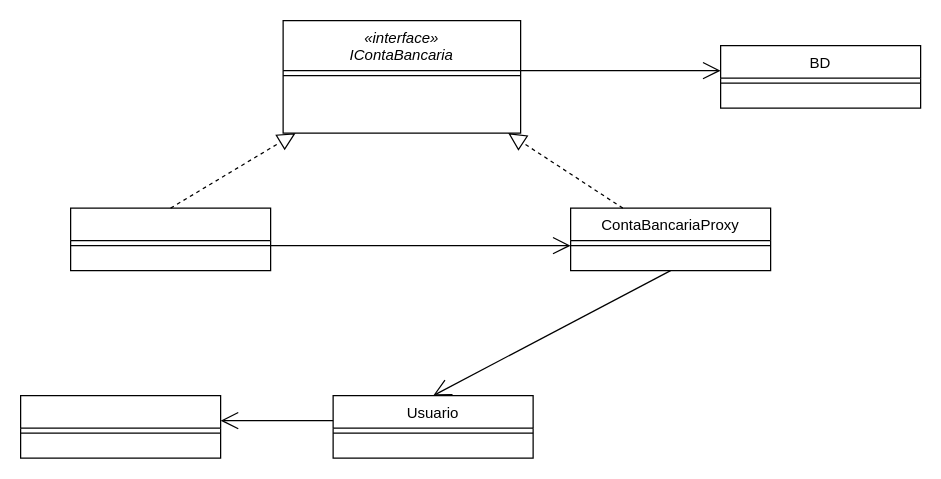
Image size: 941x479. Some labels were removed from this diagram. Here are the shapes that lost their labels. From the top down, the centre of each, then its label:
pixel 170 239: ContaBancaria
pixel 120 426: Cartao
